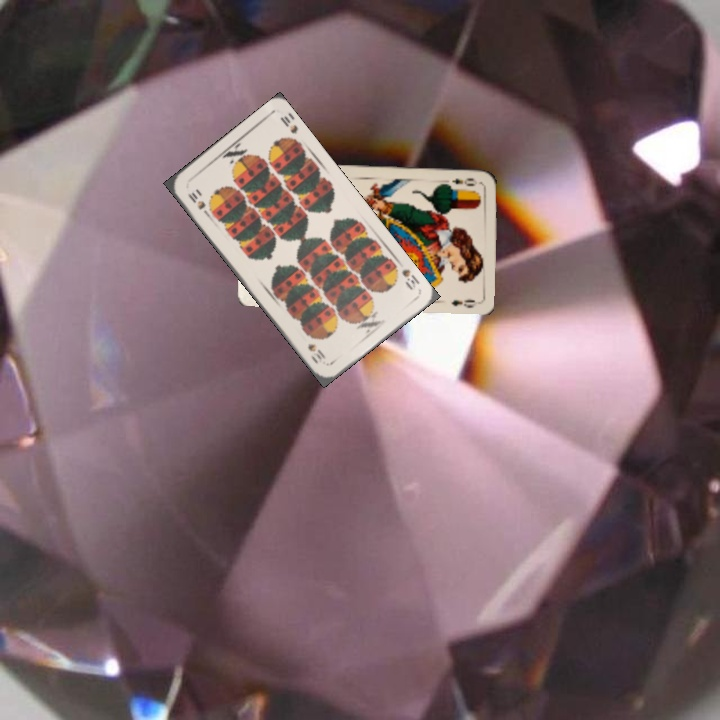EO: (448, 174, 478, 189)
S10: (184, 188, 212, 218), (397, 265, 422, 293)
